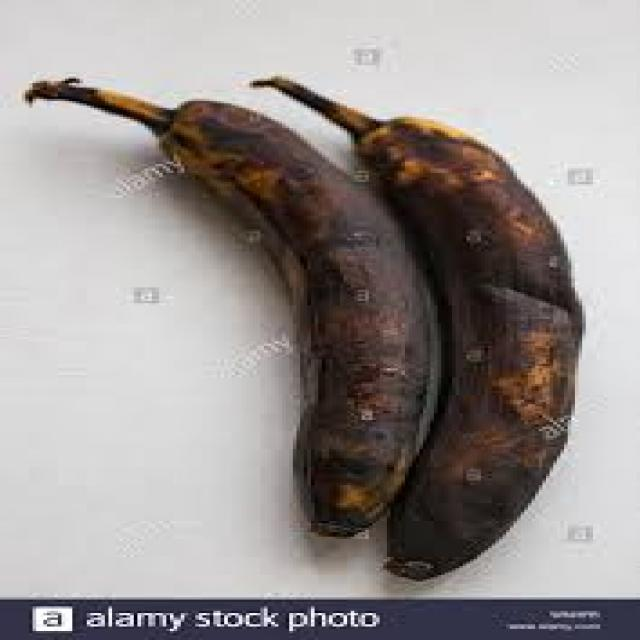organic waste: (21, 77, 438, 534), (242, 74, 586, 579)
